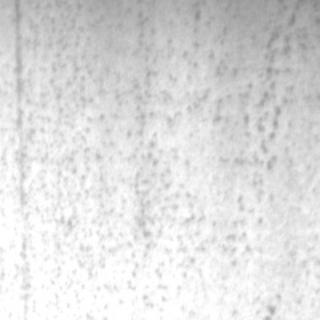pitted_surface: (0, 1, 310, 306)
